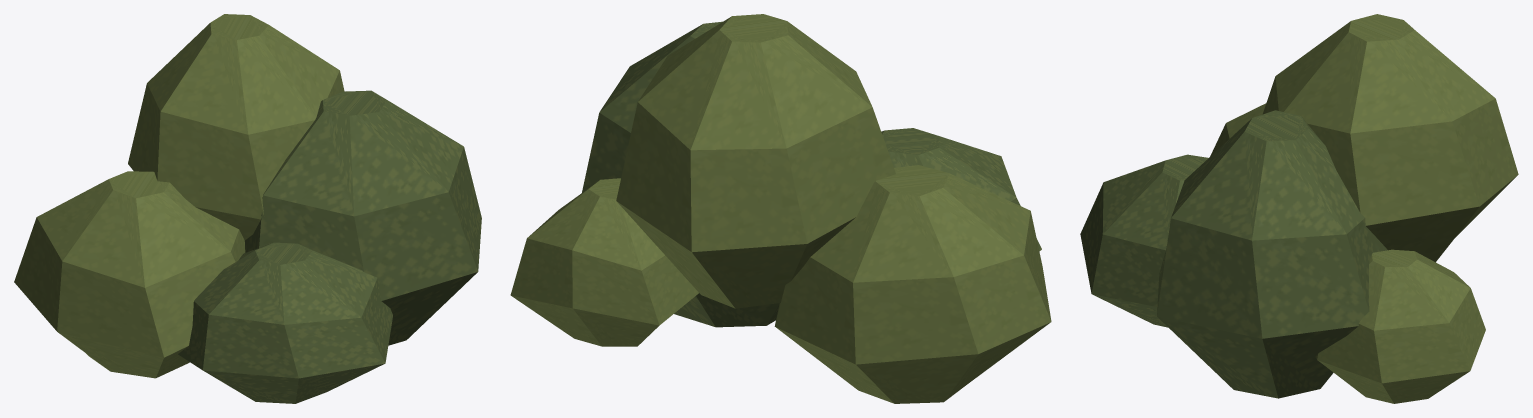
Rendered from bush_round.glb.
The picture shows the model from 3 angles, left to right: view 1: azimuth 30°, elevation 25°; view 2: azimuth 150°, elevation 25°; view 3: azimuth 270°, elevation 25°; orthographic projection. The views are drawn at different scales.
Parts seen in each view (by area): view 1: outdoor_bush_round; view 2: outdoor_bush_round; view 3: outdoor_bush_round.
Part boxes in pixels (x1=…): outdoor_bush_round: x1=14, y1=14, x2=481, y2=403; outdoor_bush_round: x1=510, y1=14, x2=1051, y2=403; outdoor_bush_round: x1=1080, y1=14, x2=1518, y2=403.
Size of the model in its own units: 1.55 by 1.05 by 1.35.
Materials: 3 (3 with a texture image).
